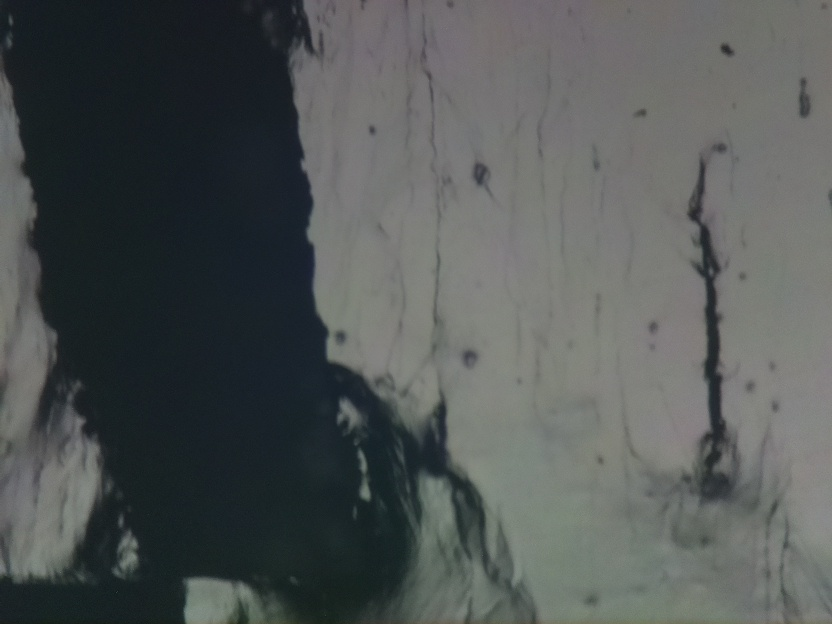crack: (0, 0, 407, 591), (688, 145, 732, 471)
